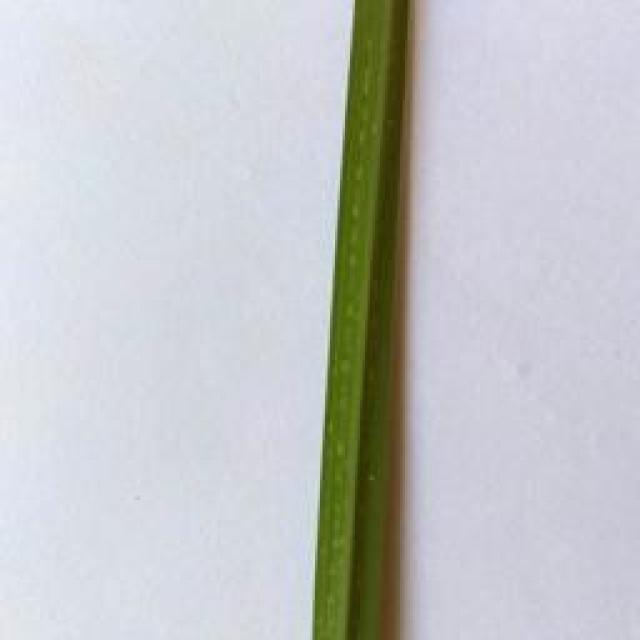Healthy-Plant: (308, 0, 409, 640)
